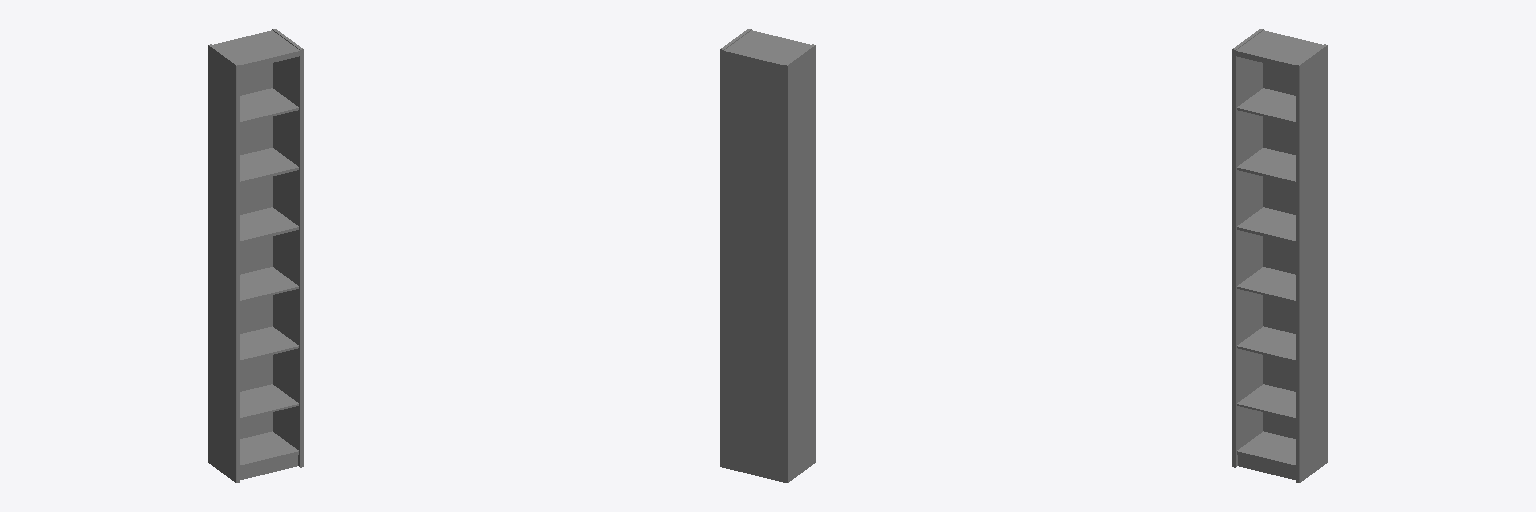
Rendered from Billy_bookshelf.obj.
The picture shows the model from 3 angles: view 1: azimuth 30°, elevation 25°; view 2: azimuth 150°, elevation 25°; view 3: azimuth 330°, elevation 25°; orthographic projection.
Visible parts, largest first — view 1: Box001; view 2: Box001; view 3: Box001.
Boxes of the visible parts, box(x1,y1,x2,y2) form: Box001: box(208, 29, 303, 482); Box001: box(720, 29, 815, 482); Box001: box(1232, 29, 1327, 482).
Size of the model in its own units: 400 by 2375 by 290.